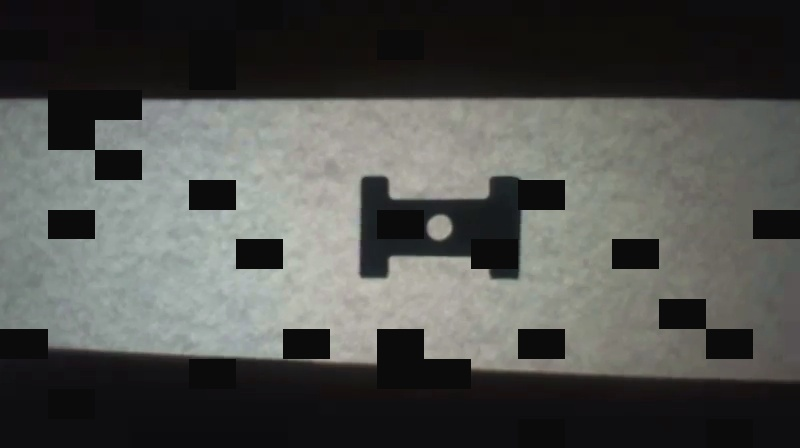O002: (353, 171, 526, 283)
